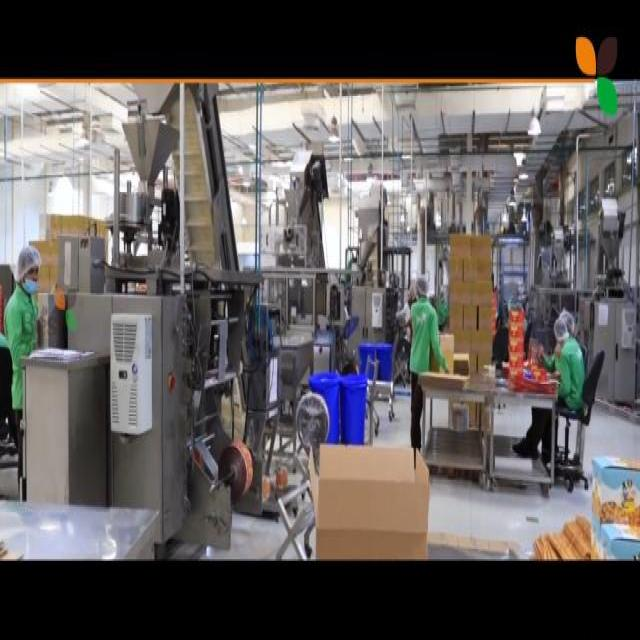hairnet: (16, 245, 42, 270), (559, 308, 576, 334), (412, 277, 428, 301), (553, 319, 567, 341)
